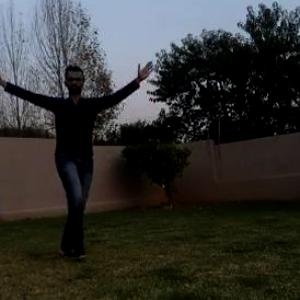takeoff: (1, 68, 136, 260)
